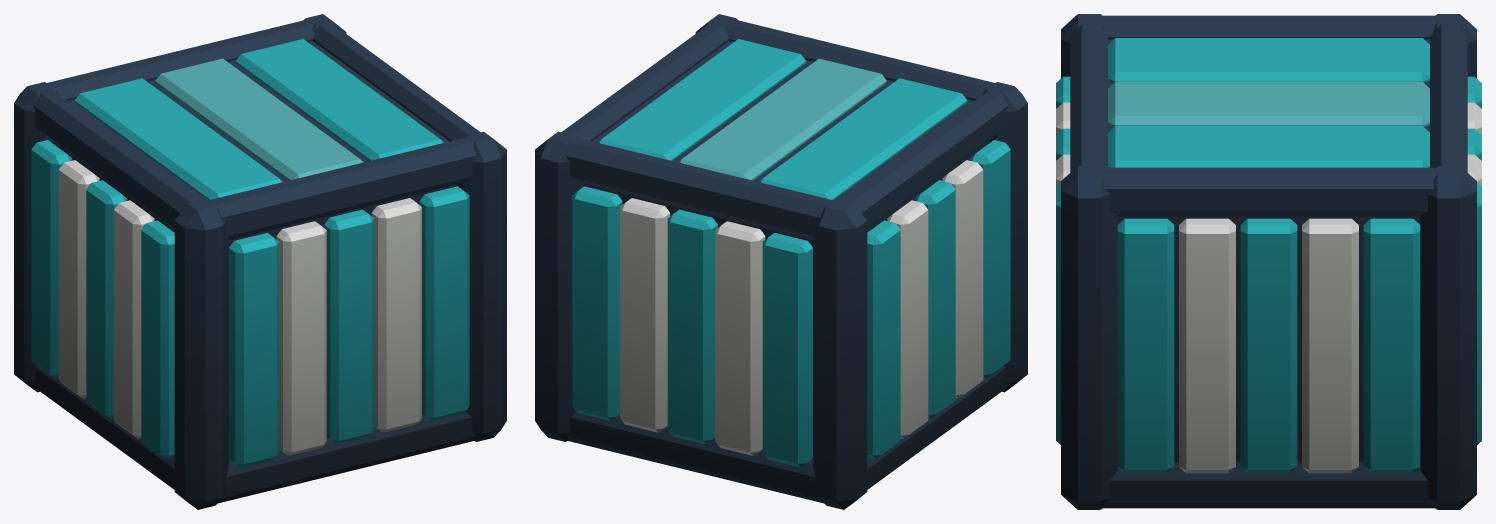
Rendered from beach-crate.glb.
3 renders of one model, left to right at view 1: azimuth 30°, elevation 25°; view 2: azimuth 150°, elevation 25°; view 3: azimuth 270°, elevation 25°, orthographic. The views are drawn at different scales.
Parts seen in each view (by area): view 1: mesh_beach_crate; view 2: mesh_beach_crate; view 3: mesh_beach_crate.
Part boxes in pixels (x1,y1,x2,y2): mesh_beach_crate: (14, 14, 506, 509); mesh_beach_crate: (535, 14, 1027, 509); mesh_beach_crate: (1056, 14, 1481, 509).
Bounding box in the file's own units: 0.9 × 0.78 × 0.9.
